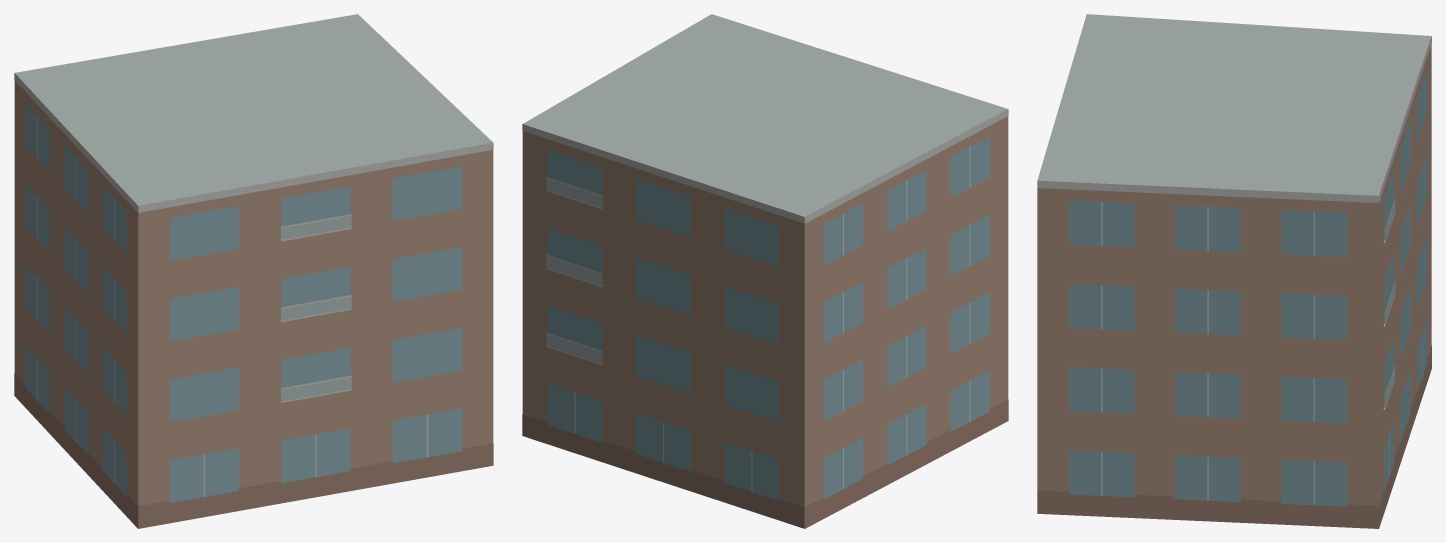
The model's file is survey-upis-32631168.glb.
The picture shows the model from 3 angles, left to right: view 1: azimuth 30°, elevation 25°; view 2: azimuth 150°, elevation 25°; view 3: azimuth 270°, elevation 25°; orthographic projection. The views are drawn at different scales.
Parts seen in each view (by area): view 1: survey-upis-32631168.tmp; view 2: survey-upis-32631168.tmp; view 3: survey-upis-32631168.tmp.
Boxes of the visible parts, bbox=[...] form: survey-upis-32631168.tmp: bbox=[14, 14, 493, 528]; survey-upis-32631168.tmp: bbox=[522, 14, 1008, 528]; survey-upis-32631168.tmp: bbox=[1037, 14, 1431, 528].
Size of the model in its own units: 13.13 by 11.2 by 12.03.
